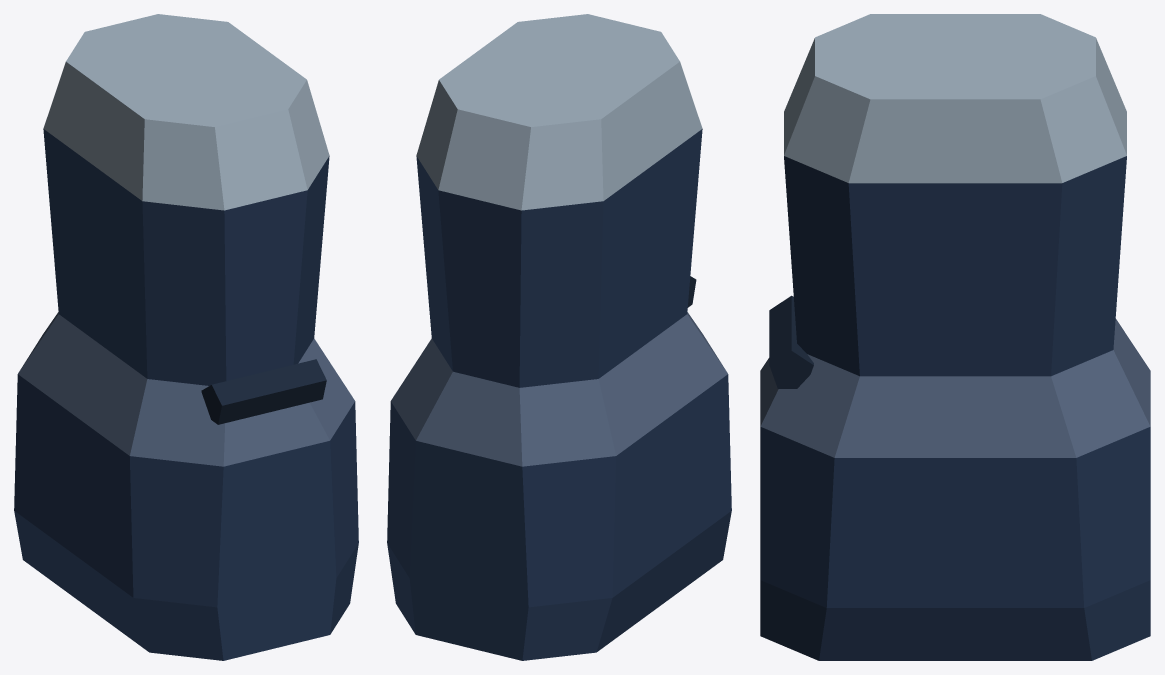
Rendered from perimeter-brace.glb.
3 views of the same model, side by side, from view 1: azimuth 30°, elevation 25°; view 2: azimuth 150°, elevation 25°; view 3: azimuth 270°, elevation 25° (orthographic). The views are drawn at different scales.
Visible parts, largest first — view 1: perimeter-brace; view 2: perimeter-brace; view 3: perimeter-brace.
Part boxes in pixels (bbox=[...]): perimeter-brace: bbox=[14, 14, 358, 660]; perimeter-brace: bbox=[387, 14, 731, 660]; perimeter-brace: bbox=[760, 14, 1150, 660].
Size of the model in its own units: 0.36 by 0.78 by 0.5.
